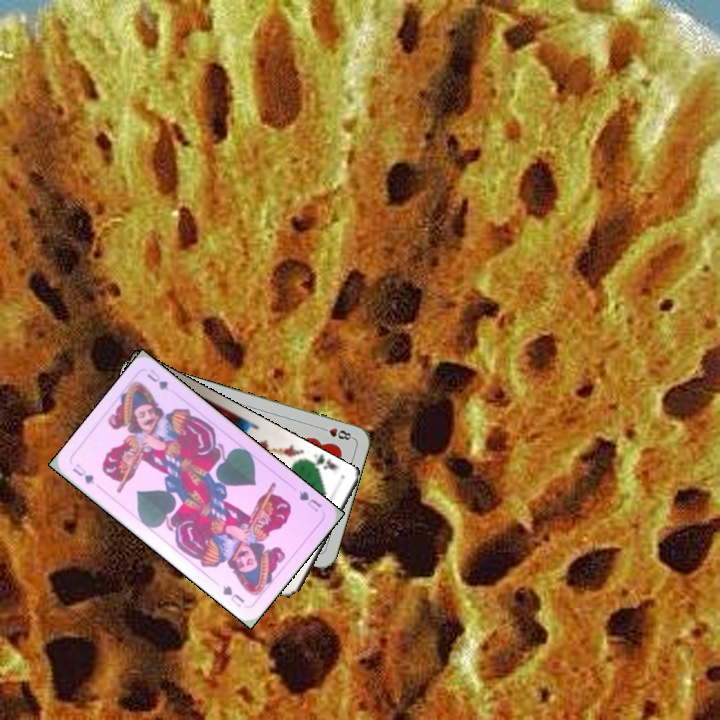GK: (306, 450, 341, 473)
GU: (68, 459, 97, 488), (295, 486, 324, 514)
H8: (316, 423, 355, 443)
